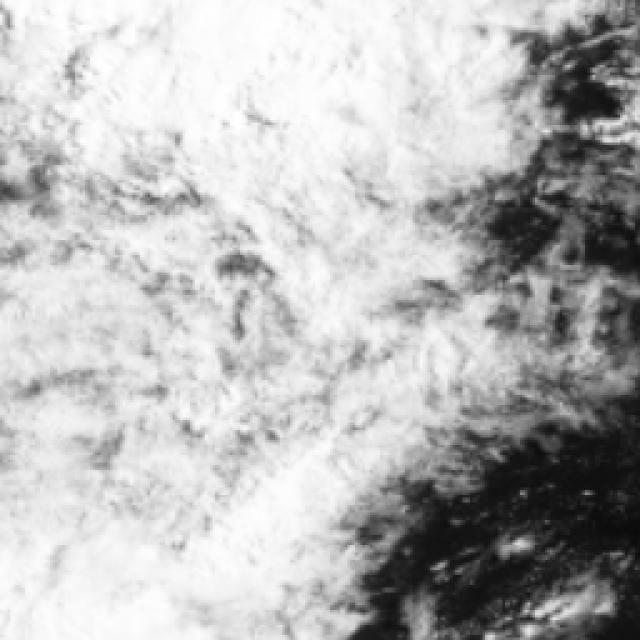CB: (144, 15, 464, 130)
